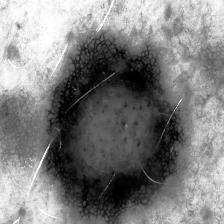Benign Marking or Mole: (43, 30, 186, 224)
